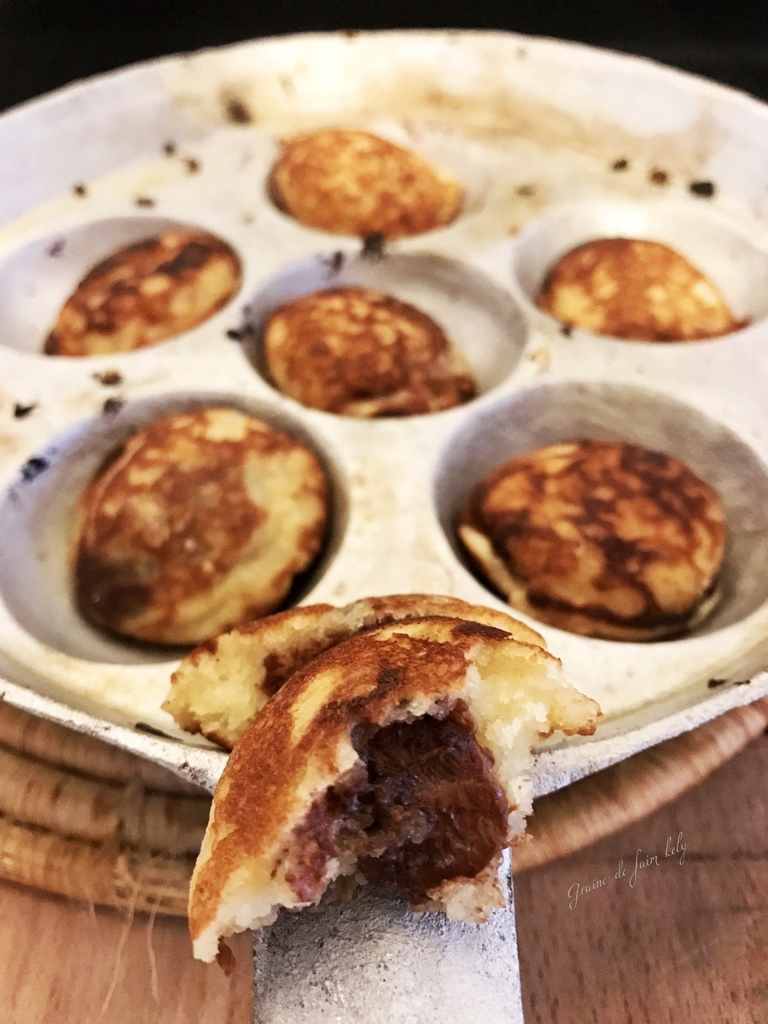Chocolat: (285, 733, 549, 918)
Crêpes de coco: (145, 615, 640, 972), (75, 415, 338, 659), (462, 399, 725, 643), (259, 283, 501, 452), (31, 225, 239, 355), (255, 114, 463, 244), (538, 229, 746, 359)
